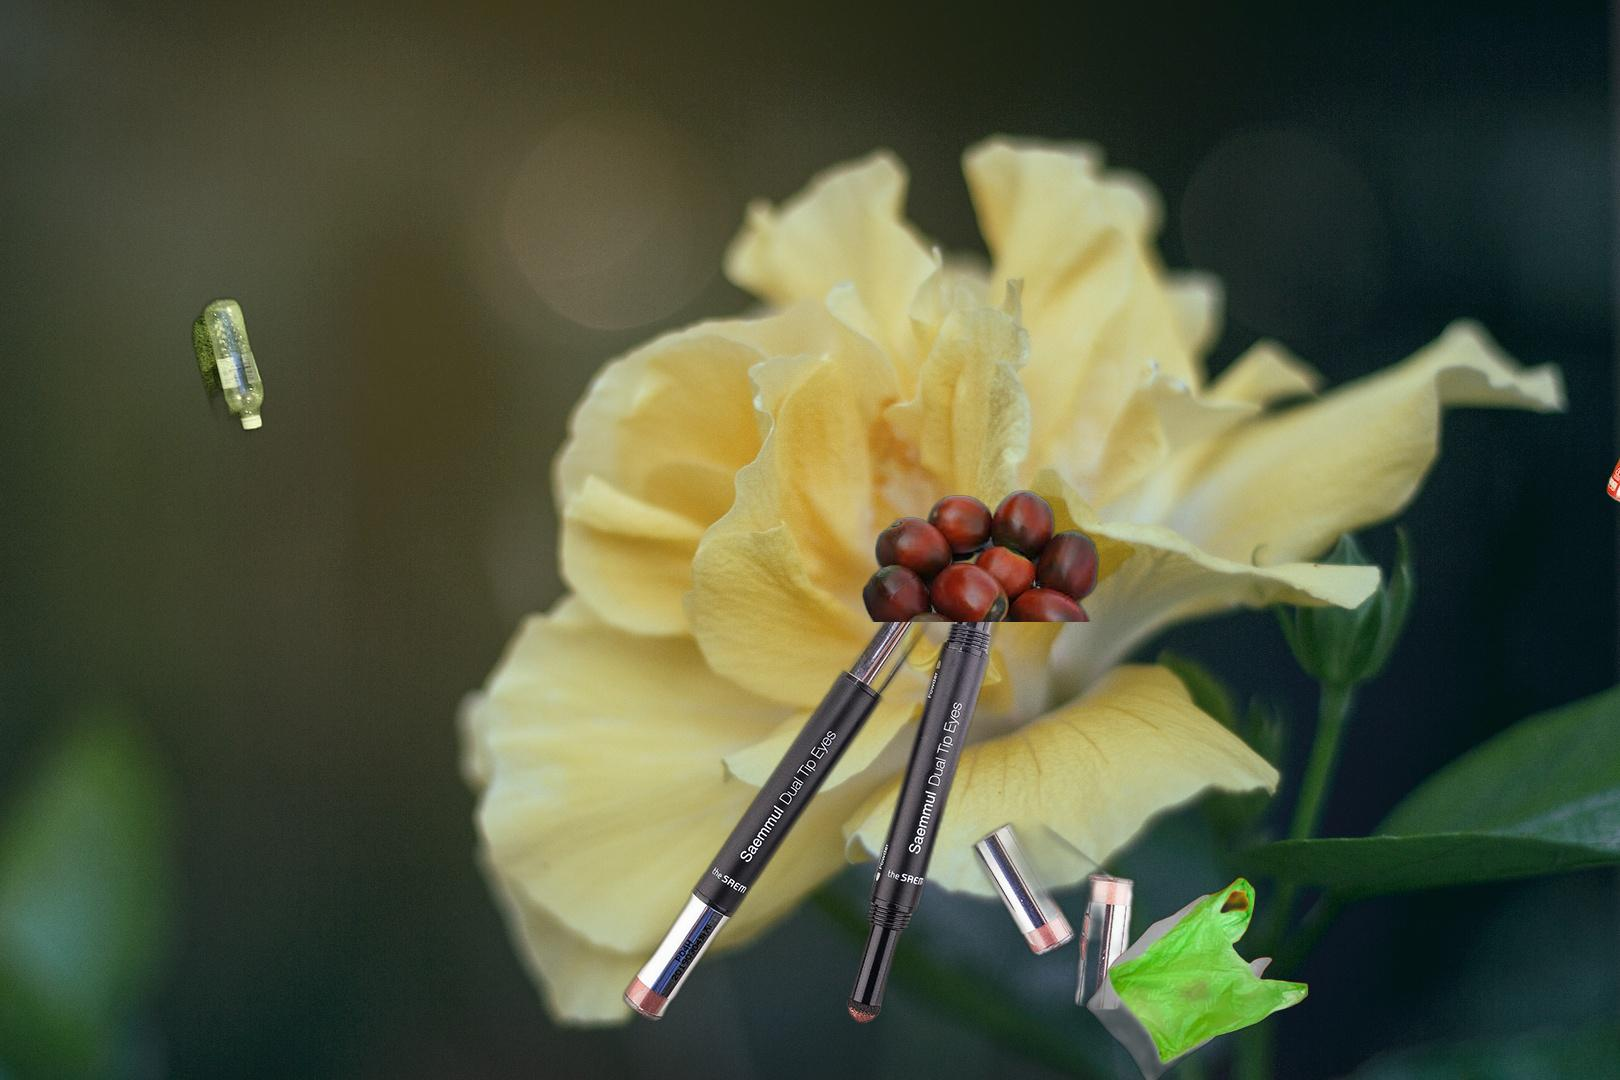biological: (843, 488, 1100, 622)
metal-cans: (1602, 398, 1620, 512)
penholder: (618, 521, 1146, 1028)
plastic-bag: (1082, 875, 1311, 1080)
plastic-bottles: (188, 292, 269, 444)
